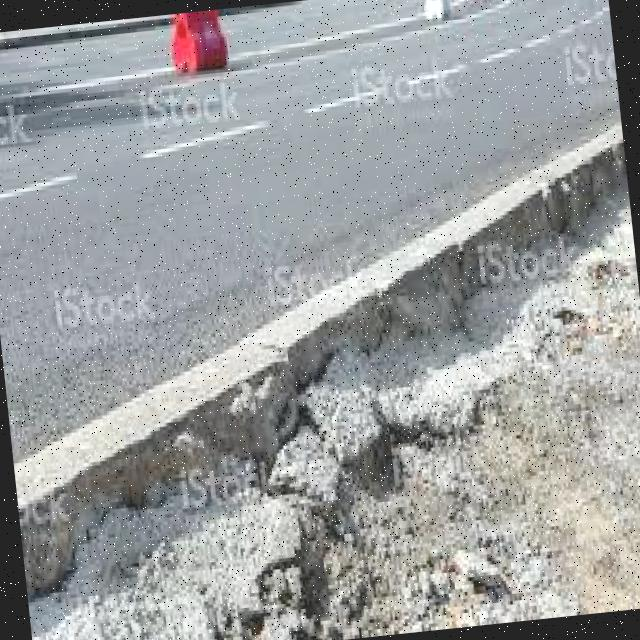curb: (14, 129, 630, 601)
